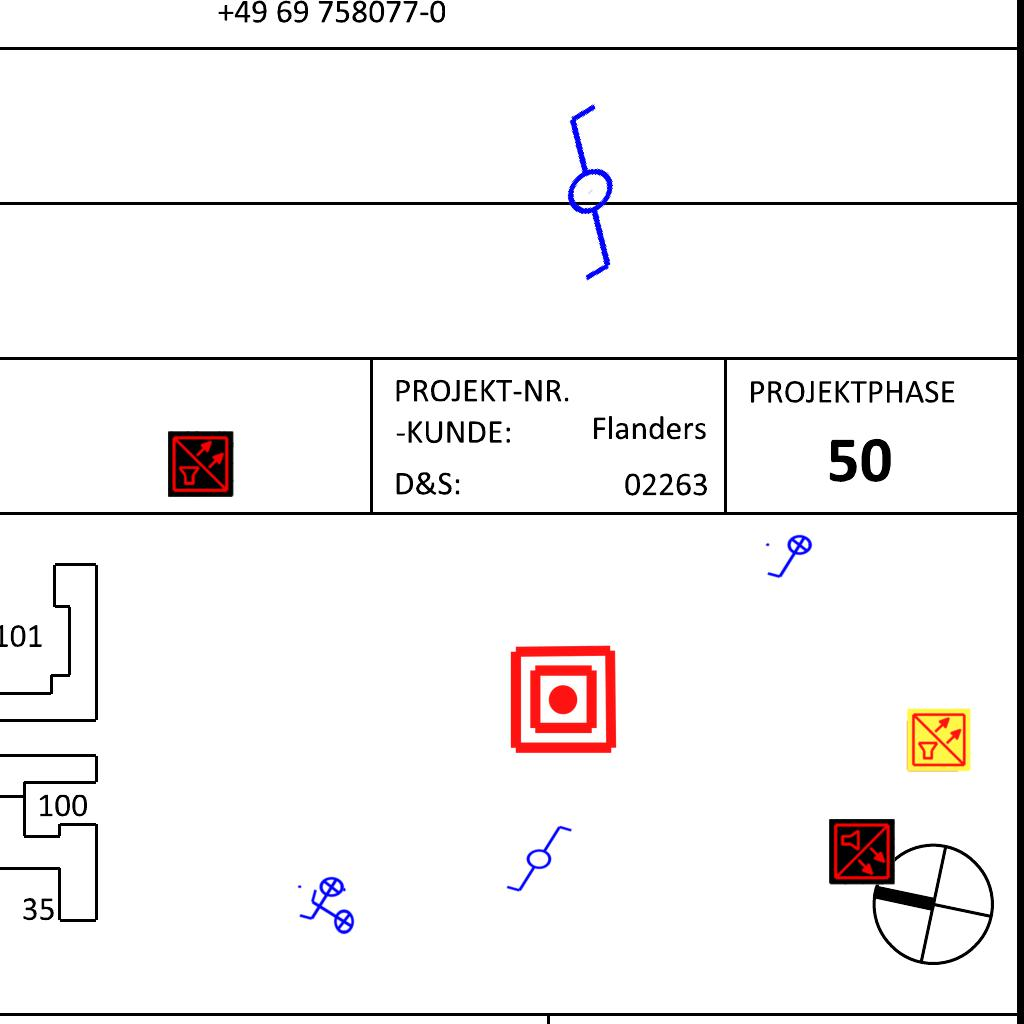Ausschalter_beleuchtet: (763, 534, 819, 582), (295, 876, 351, 924), (307, 885, 355, 941)
NAM-Nichtautomatischer_Melder: (507, 643, 620, 756)
OKW_Multisensormelder_(Kombination_optischer_Rauch-Kahlenmonoxid_Waerme-Melder): (906, 707, 972, 773), (829, 819, 895, 885), (168, 431, 234, 497)
Wechselschalter: (491, 80, 704, 294), (496, 822, 574, 894)
